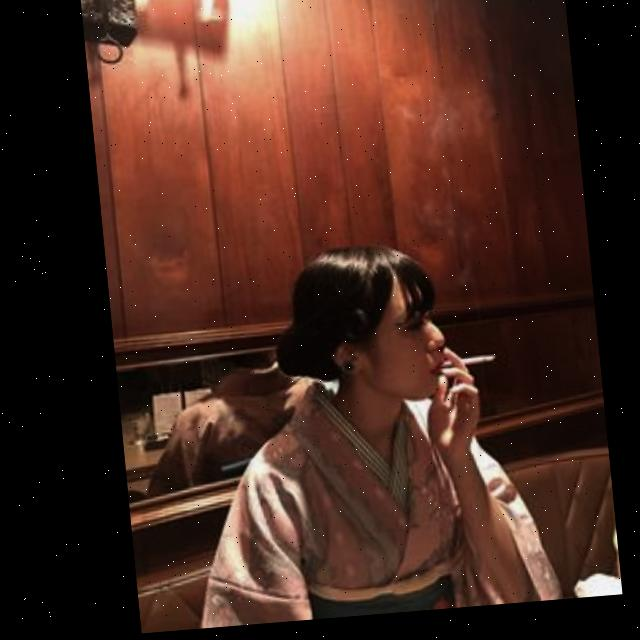cigarette: (429, 360, 491, 378)
